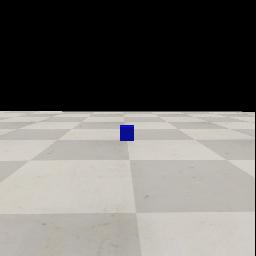box: (120, 125, 134, 141)
